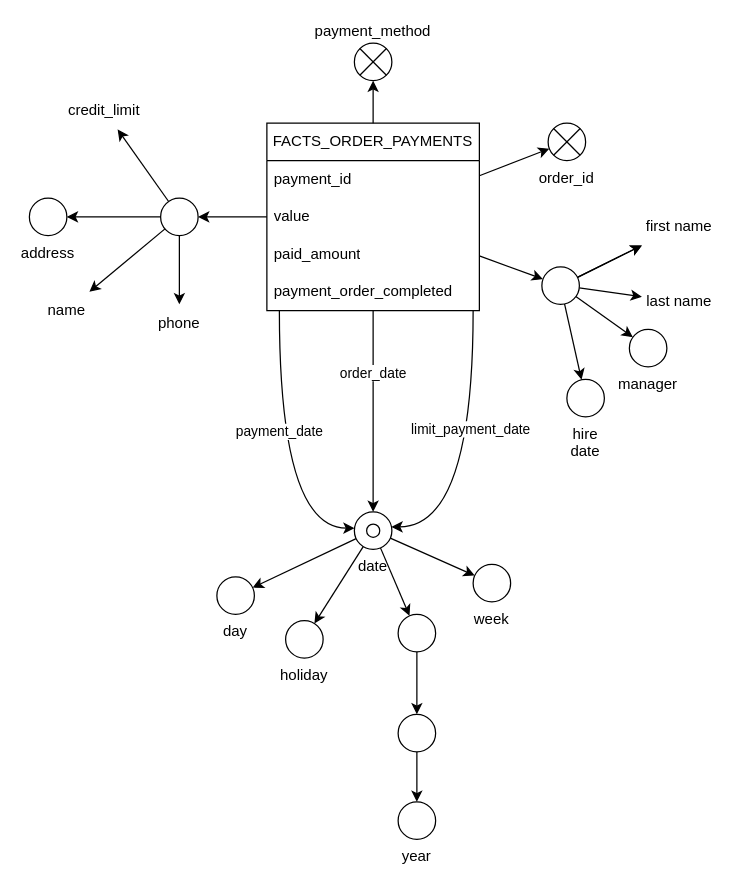
Image size: 739x886. Some labels were removed from this diagram. The centre of each missing label's shape, as x and y in pixels:
"customer" belongs at (x=178, y=216).
"employee" belongs at (x=560, y=285).
"month" belongs at (x=416, y=632).
"quarter" belongs at (x=416, y=732).
